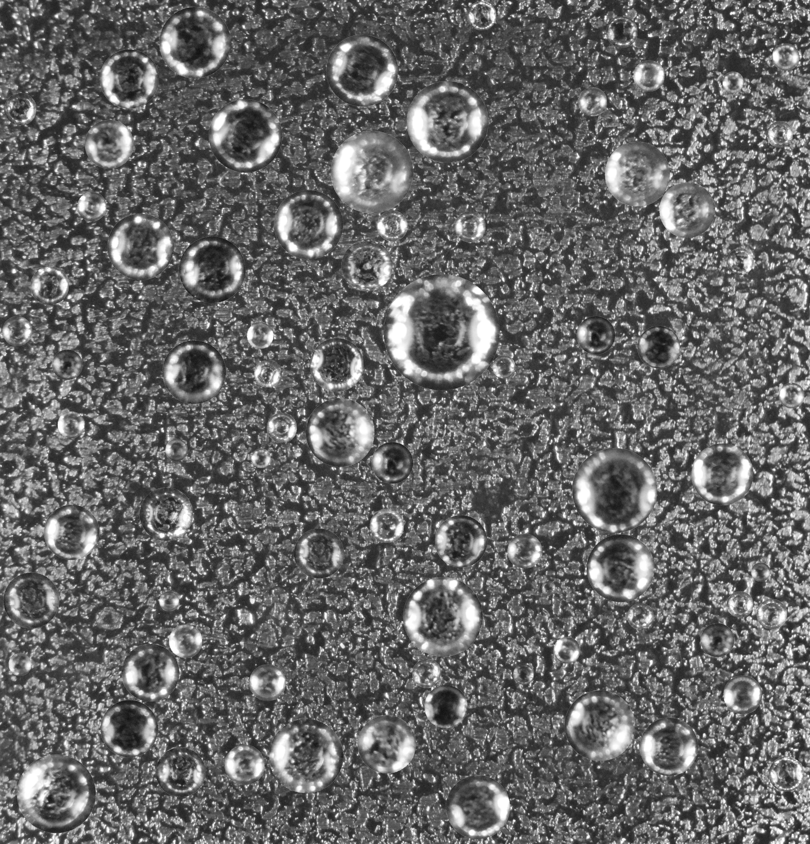Bubble: (383, 274, 499, 390), (572, 448, 657, 532), (330, 130, 413, 213), (406, 81, 488, 162), (403, 577, 482, 656), (17, 754, 95, 833), (269, 719, 343, 793), (208, 99, 282, 172), (326, 34, 398, 106), (159, 6, 230, 78), (564, 690, 635, 760), (274, 190, 343, 259), (305, 398, 374, 466), (586, 534, 654, 602), (179, 236, 245, 302), (107, 213, 173, 279), (605, 141, 669, 206), (446, 775, 509, 839), (162, 340, 225, 403), (691, 443, 753, 505), (99, 49, 158, 108), (357, 715, 415, 773), (640, 717, 698, 775), (121, 644, 179, 701), (100, 700, 157, 757), (3, 572, 59, 628), (659, 182, 715, 237), (44, 504, 99, 559), (139, 487, 192, 540), (310, 338, 363, 391), (435, 515, 487, 567), (341, 240, 392, 291), (155, 747, 205, 797), (294, 528, 343, 578), (84, 119, 133, 168), (637, 325, 680, 368), (424, 685, 467, 728), (371, 442, 413, 483), (224, 745, 264, 785), (723, 675, 762, 714), (576, 316, 615, 354), (30, 266, 68, 304), (249, 664, 285, 700), (768, 756, 803, 791), (507, 533, 542, 568), (369, 508, 403, 542), (700, 623, 734, 657), (168, 624, 202, 657), (4, 93, 36, 125), (633, 60, 664, 91), (454, 211, 485, 242), (606, 16, 637, 47), (756, 599, 787, 629), (377, 210, 407, 241), (52, 349, 82, 379), (266, 412, 296, 442), (412, 659, 441, 688), (467, 1, 496, 30), (578, 87, 607, 116), (77, 192, 106, 221), (2, 316, 31, 345), (57, 411, 84, 438), (772, 43, 799, 70), (254, 360, 281, 387), (766, 121, 793, 147), (553, 637, 580, 663), (727, 591, 753, 617), (627, 603, 653, 629), (727, 248, 753, 274), (247, 322, 273, 348), (779, 382, 804, 408), (492, 355, 515, 378), (8, 653, 31, 675), (165, 438, 187, 461), (722, 71, 743, 92), (159, 591, 179, 611), (513, 664, 533, 684), (251, 448, 270, 468), (751, 562, 770, 581), (541, 581, 555, 594)
